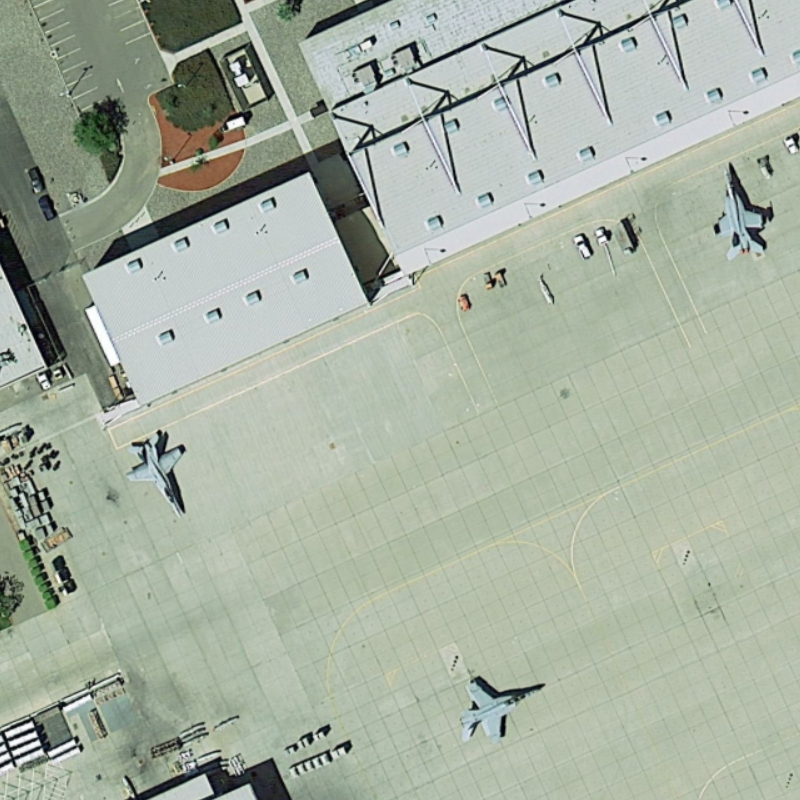A16: (115, 426, 200, 522), (447, 671, 549, 750), (710, 160, 774, 266)
